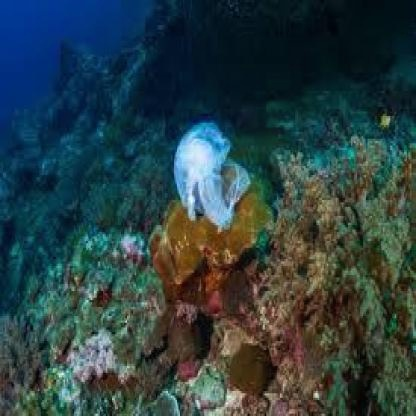pbag: (174, 121, 251, 230)
